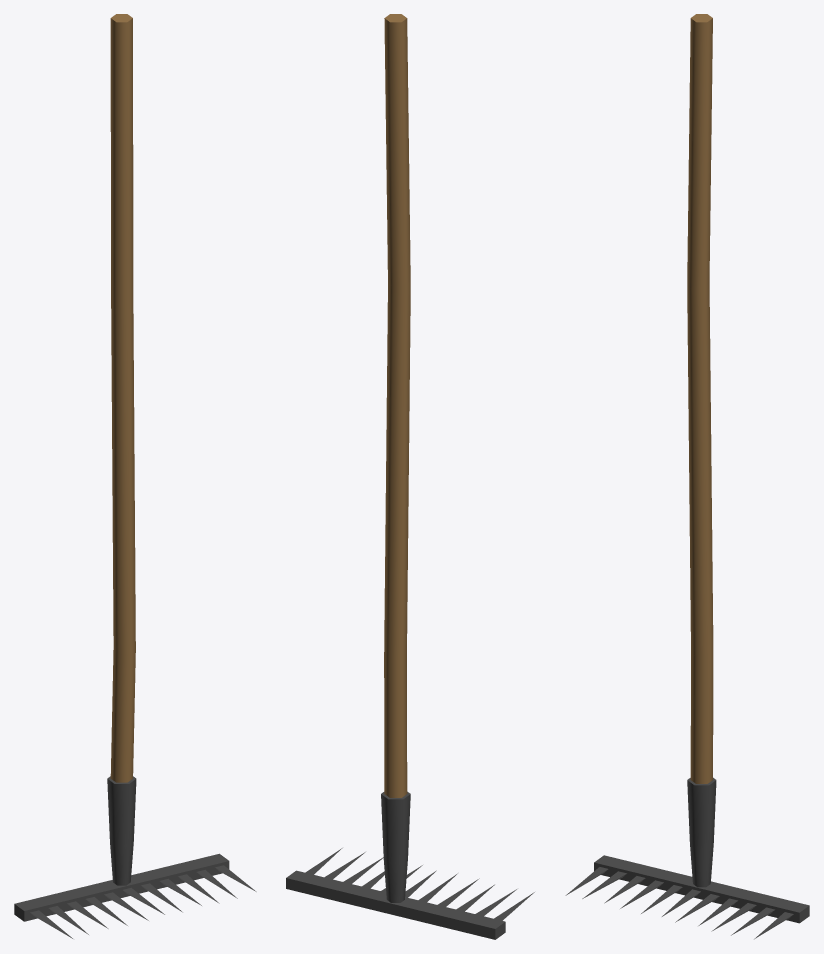
The model's file is gandanho.fbx.
3 views of the same model, side by side, from view 1: azimuth 30°, elevation 25°; view 2: azimuth 150°, elevation 25°; view 3: azimuth 330°, elevation 25° (orthographic). The views are drawn at different scales.
Visible parts, largest first — view 1: gandanho; view 2: gandanho; view 3: gandanho.
Boxes of the visible parts, bbox=[...] form: gandanho: bbox=[14, 14, 256, 938]; gandanho: bbox=[286, 14, 534, 939]; gandanho: bbox=[565, 14, 809, 939].
Bounding box in the file's own units: 387 × 1578 × 171.
